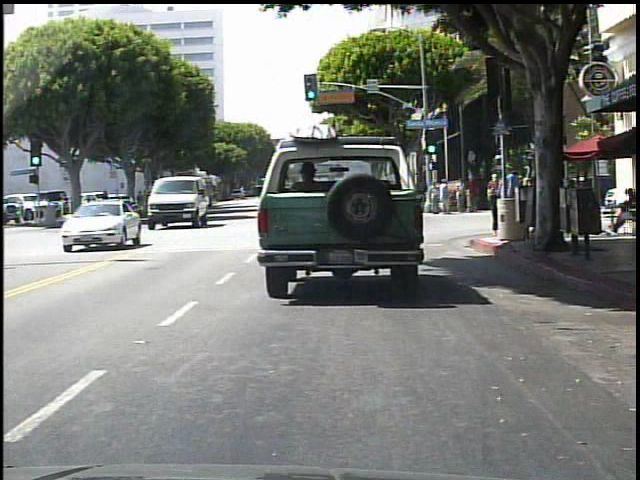person: (604, 185, 639, 237), (503, 166, 521, 235), (521, 173, 538, 228), (492, 171, 506, 235), (489, 172, 504, 221), (537, 174, 550, 219), (466, 171, 478, 211), (440, 178, 452, 214), (457, 178, 468, 212), (430, 182, 441, 214)
